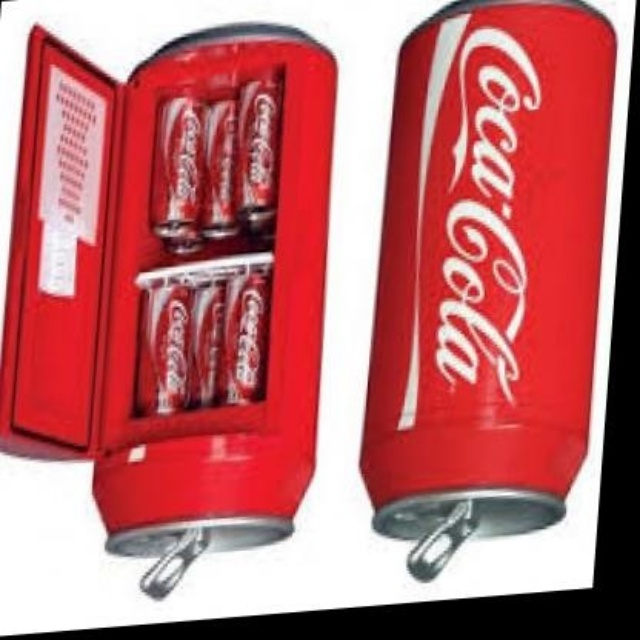trash: (360, 0, 615, 577), (94, 26, 334, 554)
